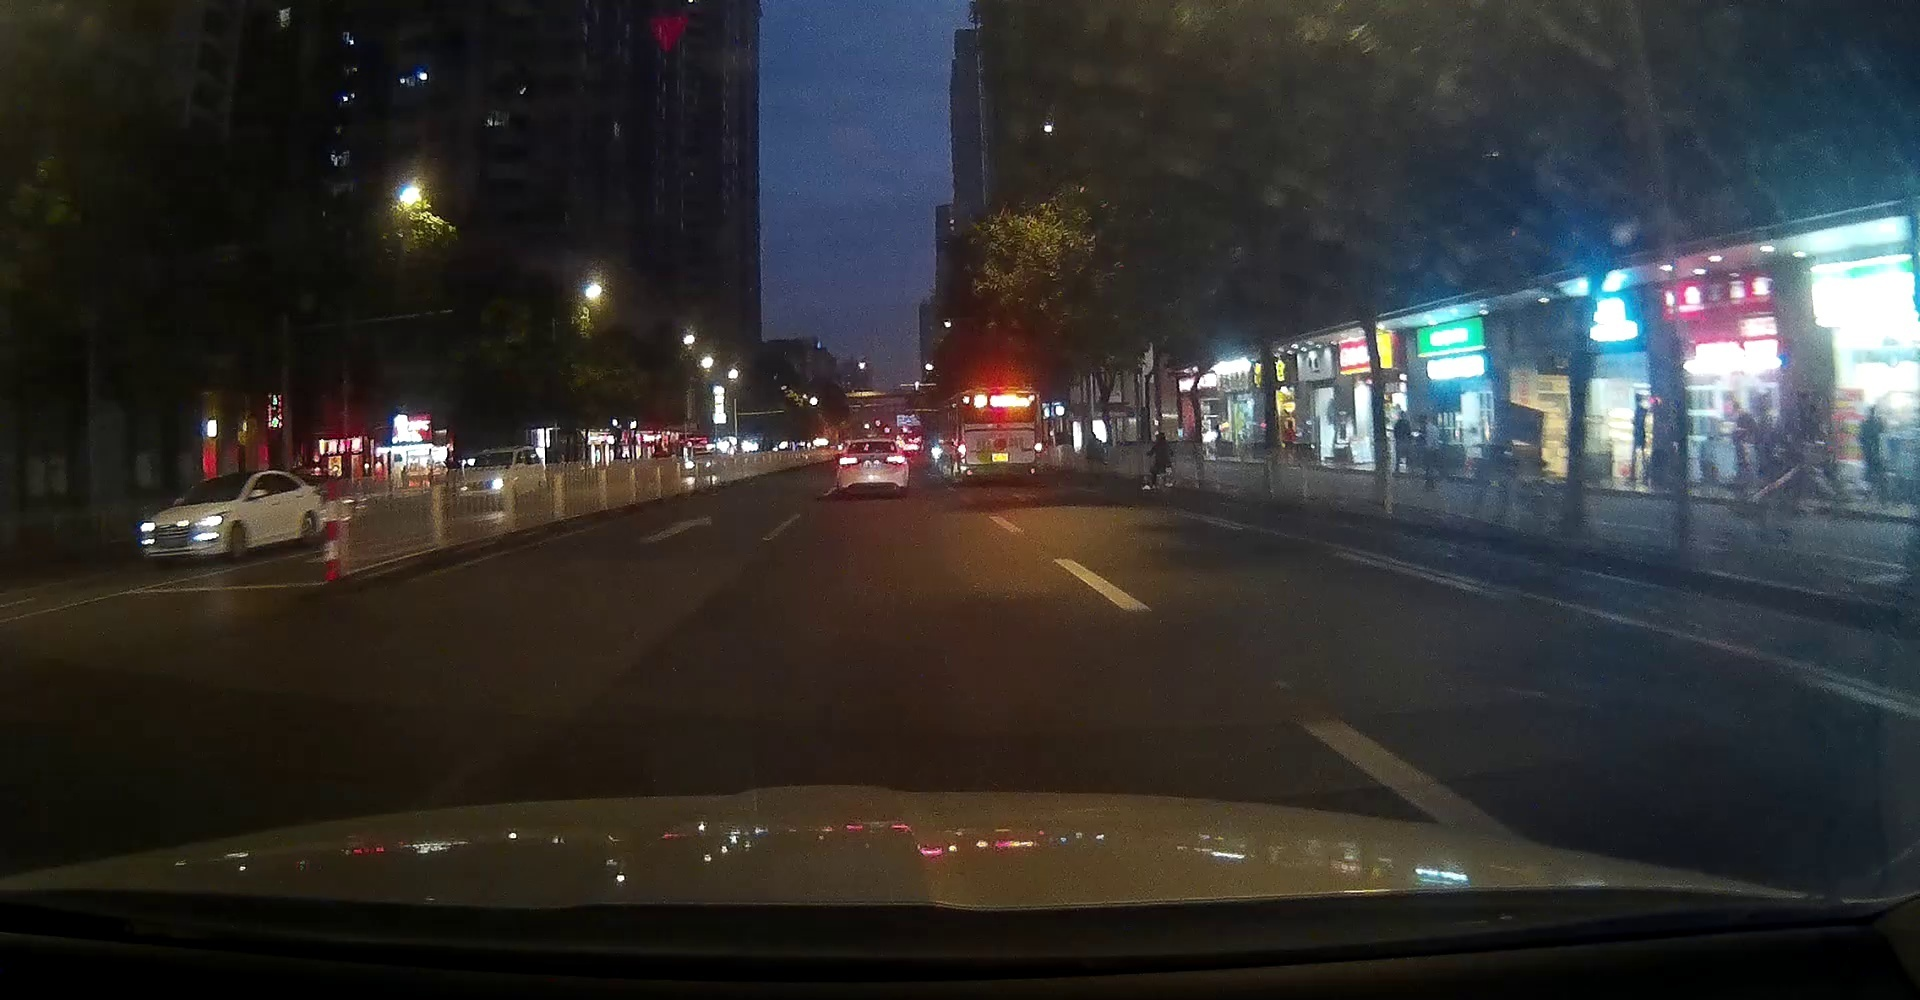L_light: (838, 456, 858, 464), (957, 442, 968, 459)
R_light: (885, 456, 905, 464), (1032, 442, 1043, 458)
T_light: (998, 390, 1010, 395), (870, 440, 877, 443)
night-brake: (957, 386, 1043, 485)
night-no: (838, 439, 905, 497)
